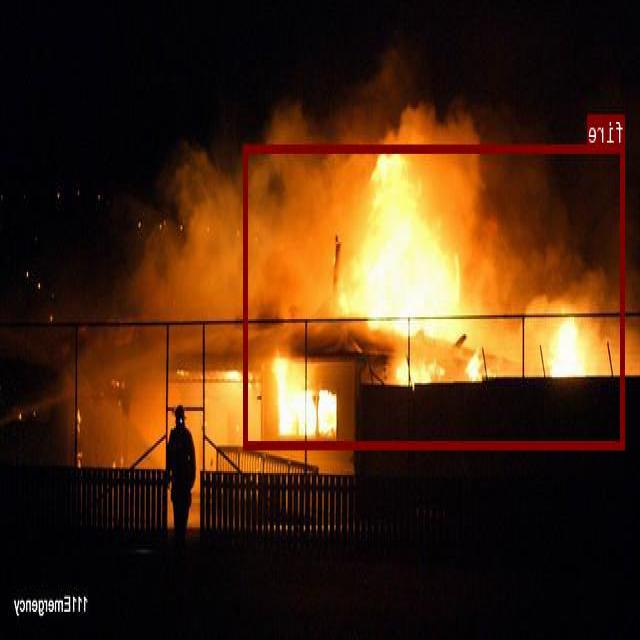fire: (244, 143, 626, 447)
